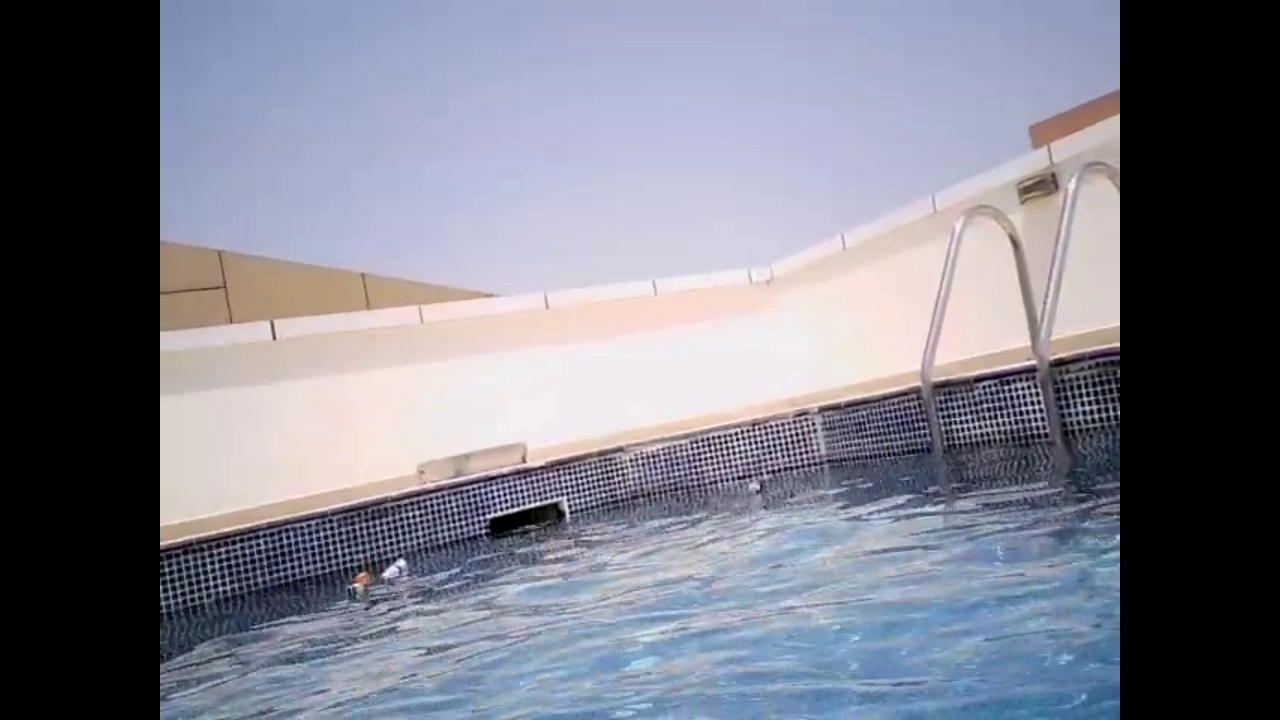debris: (377, 559, 412, 587), (351, 573, 375, 596), (345, 583, 364, 606), (745, 478, 765, 495)
